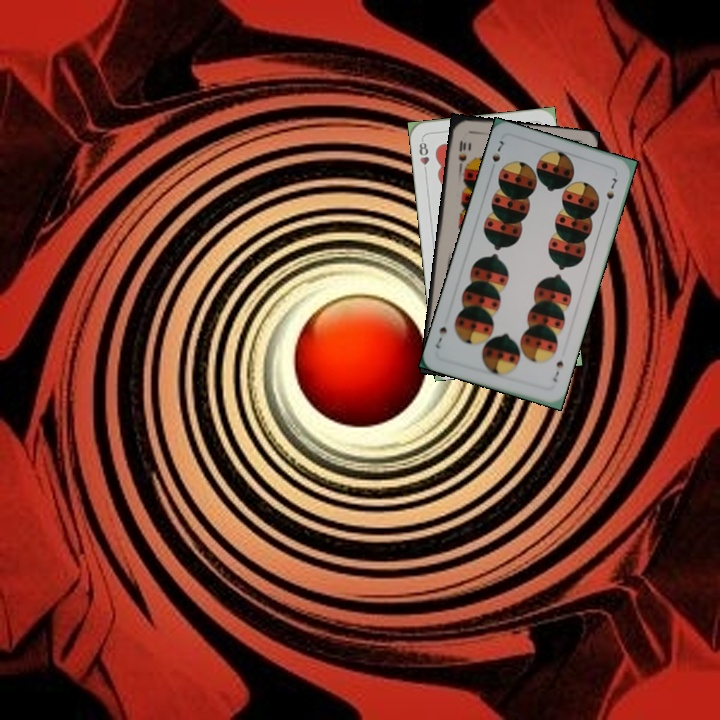H8: (415, 135, 432, 176)
S10: (454, 136, 469, 171)
S7: (486, 136, 506, 175), (549, 357, 566, 385)
